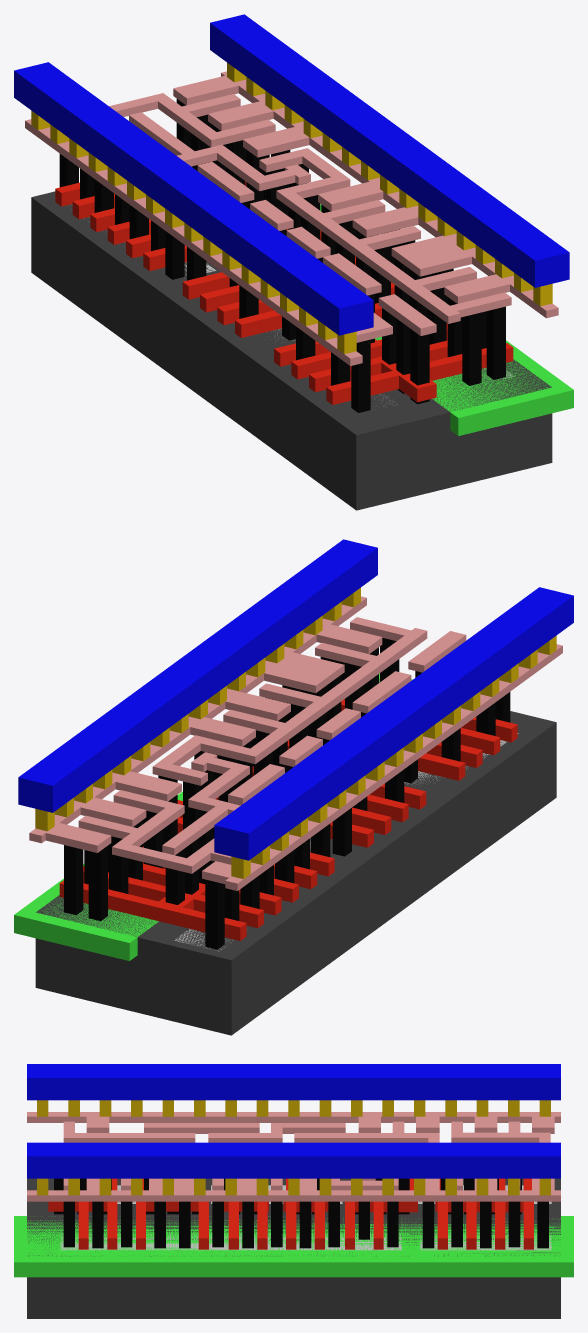
Rendered from sky130_fd_sc_hd__a41o_4.obj.
3 views of the same model, one above another, from view 1: azimuth 30°, elevation 25°; view 2: azimuth 150°, elevation 25°; view 3: azimuth 270°, elevation 25° (orthographic). The views are drawn at different scales.
Parts seen in each view (by area): view 1: subs, metal1, li, licon, poly, mcon, nwell; view 2: subs, metal1, li, licon, poly, mcon, nwell; view 3: metal1, subs, nwell, li, licon, poly, mcon, tap.
Boxes of the visible parts, x1=… form: subs: x1=31, y1=191, x2=552, y2=510; metal1: x1=14, y1=14, x2=569, y2=335; li: x1=25, y1=71, x2=558, y2=365; licon: x1=59, y1=99, x2=505, y2=412; poly: x1=55, y1=181, x2=513, y2=404; mcon: x1=31, y1=62, x2=552, y2=353; nwell: x1=320, y1=204, x2=573, y2=435; subs: x1=35, y1=679, x2=556, y2=1035; metal1: x1=18, y1=539, x2=573, y2=860; li: x1=29, y1=596, x2=562, y2=890; licon: x1=64, y1=638, x2=510, y2=949; poly: x1=59, y1=699, x2=517, y2=940; mcon: x1=35, y1=587, x2=556, y2=878; nwell: x1=14, y1=673, x2=412, y2=960; metal1: x1=27, y1=1064, x2=560, y2=1178; subs: x1=27, y1=1178, x2=560, y2=1318; nwell: x1=14, y1=1216, x2=573, y2=1277; li: x1=27, y1=1112, x2=560, y2=1201; licon: x1=54, y1=1178, x2=548, y2=1248; poly: x1=48, y1=1178, x2=533, y2=1249; mcon: x1=37, y1=1100, x2=550, y2=1195; tap: x1=60, y1=1232, x2=551, y2=1250.
Size of the model in its own units: 3.2 by 2.74 by 8.2.
